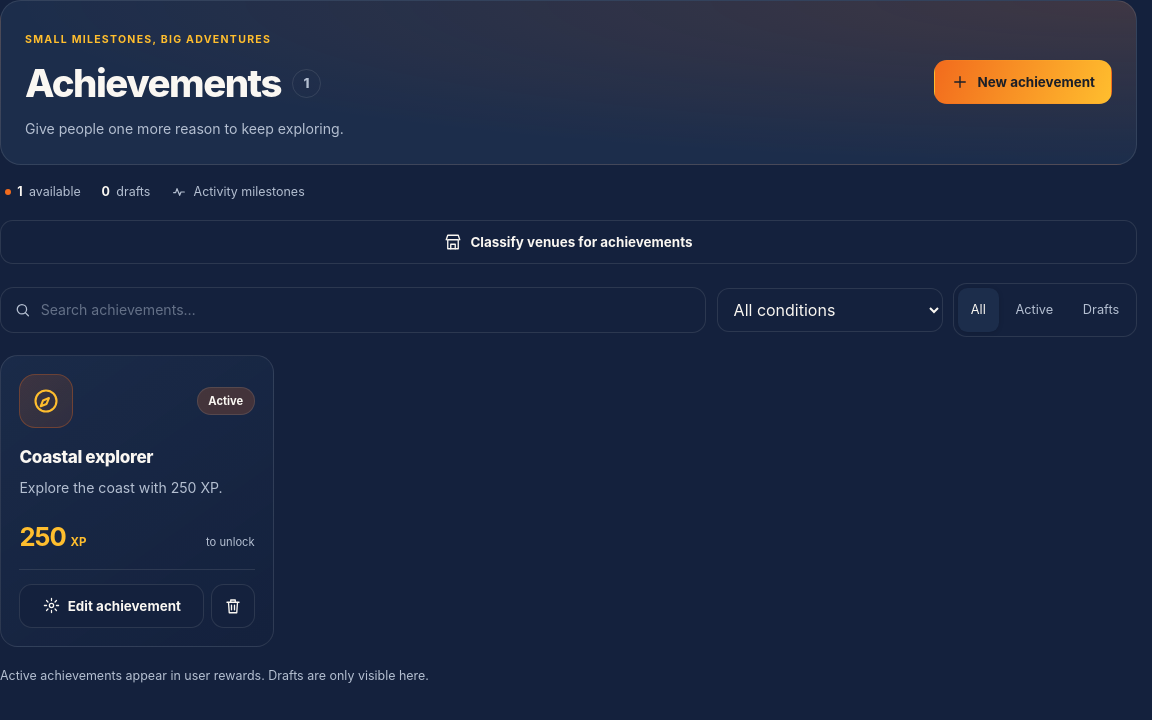
Test: managed achievements › starts new achievements as drafts and requires explicit deletion confirmation
Click the button "New achievement" at {"x": 1023, "y": 82}, box [934,60,1112,104]
(page scrolled)
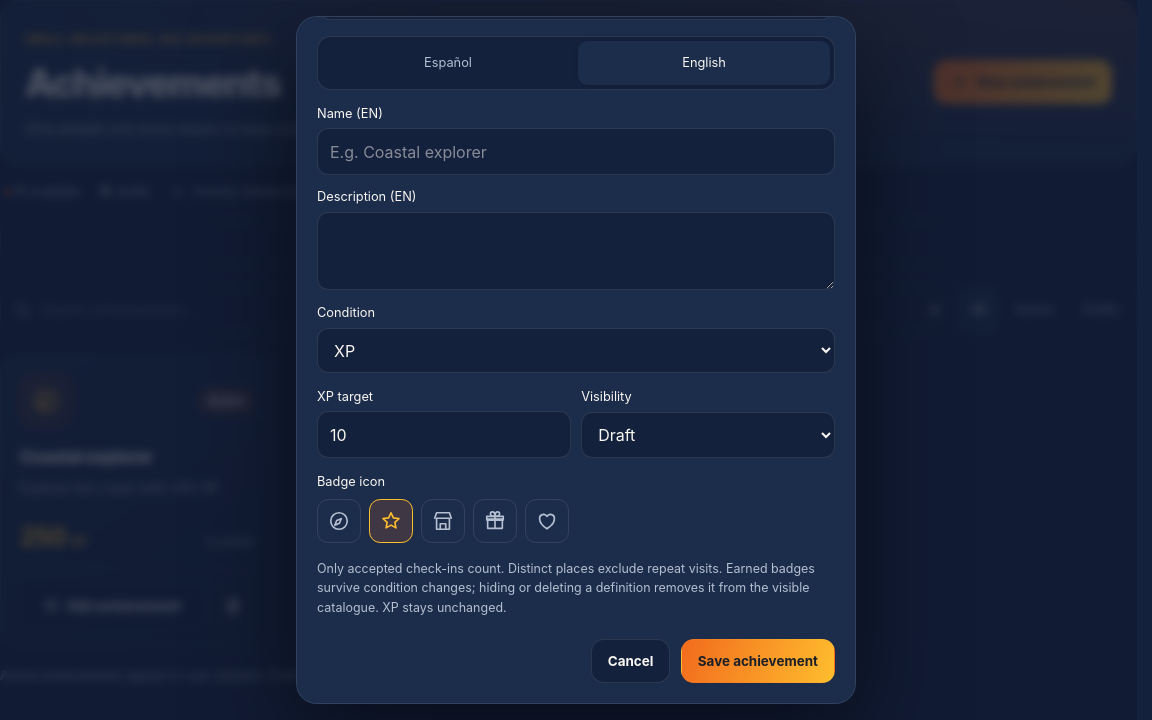
Expected: the dropdown labelled "Visibility" shows "Draft", [581,412,835,458]
Click the button "Cancel" at {"x": 631, "y": 661}, box [591,639,670,683]
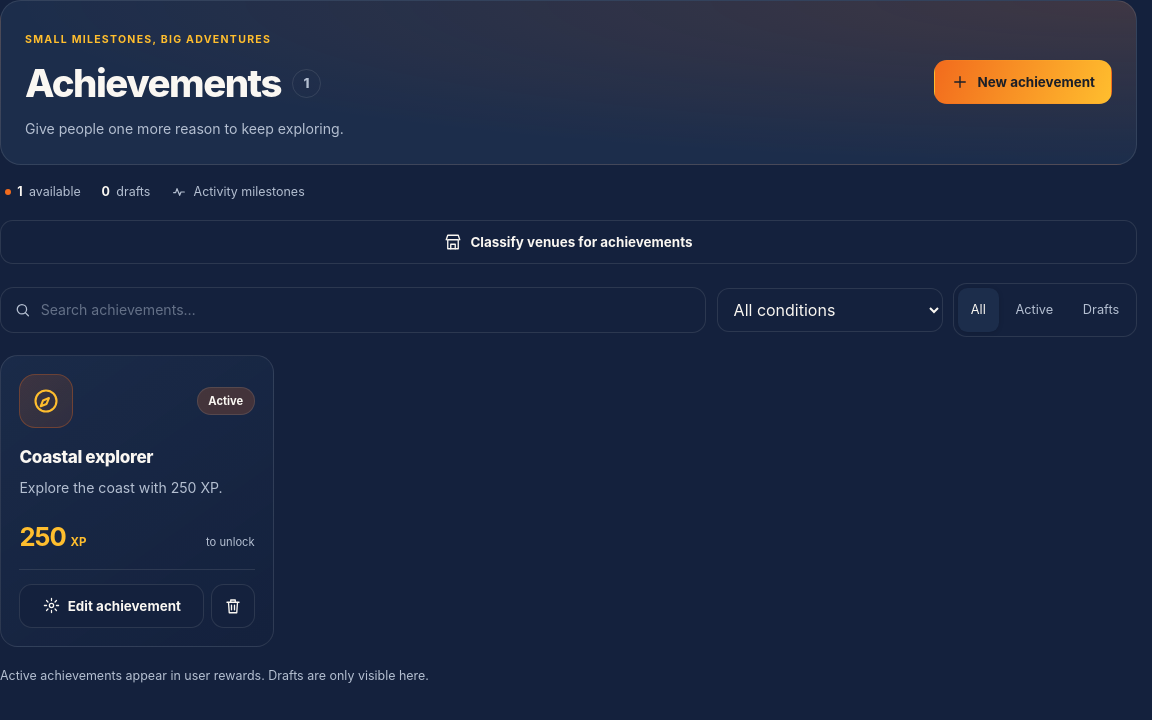
Click the button named "Delete Coastal explorer" at {"x": 233, "y": 606}, box [211,584,255,628]
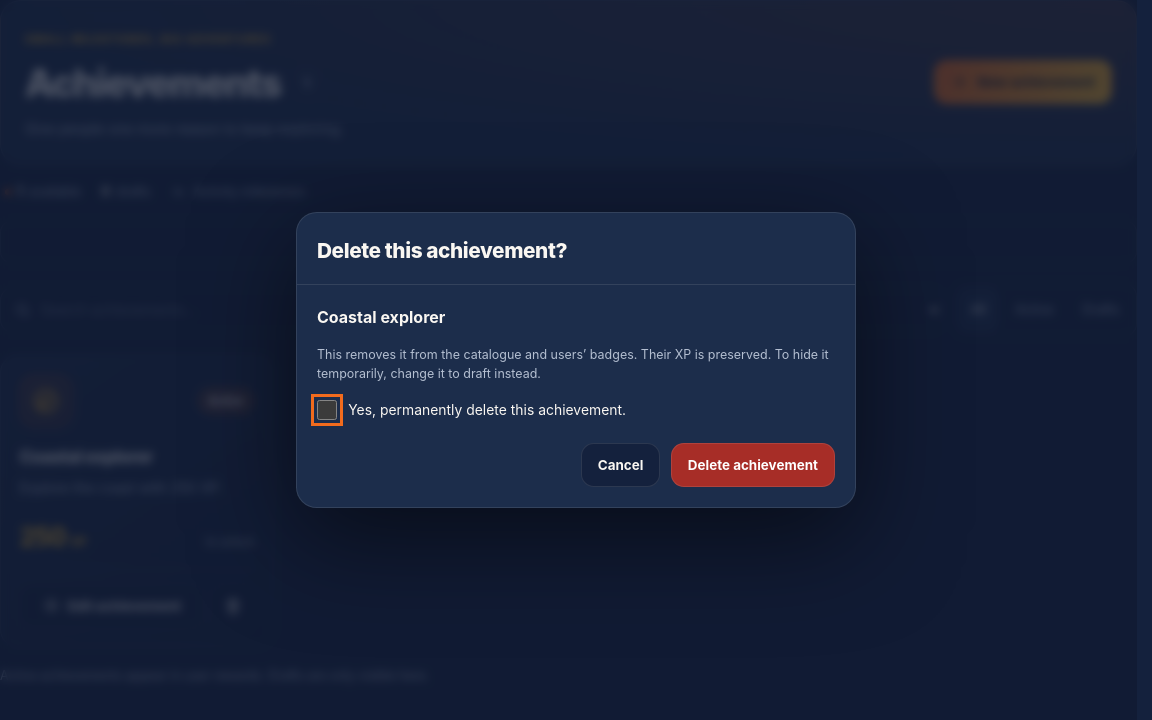
Expected: the checkbox is not checked, [317,400,337,420]
Expected: the text "Their XP is preserved" is shown, [317,347,829,381]
